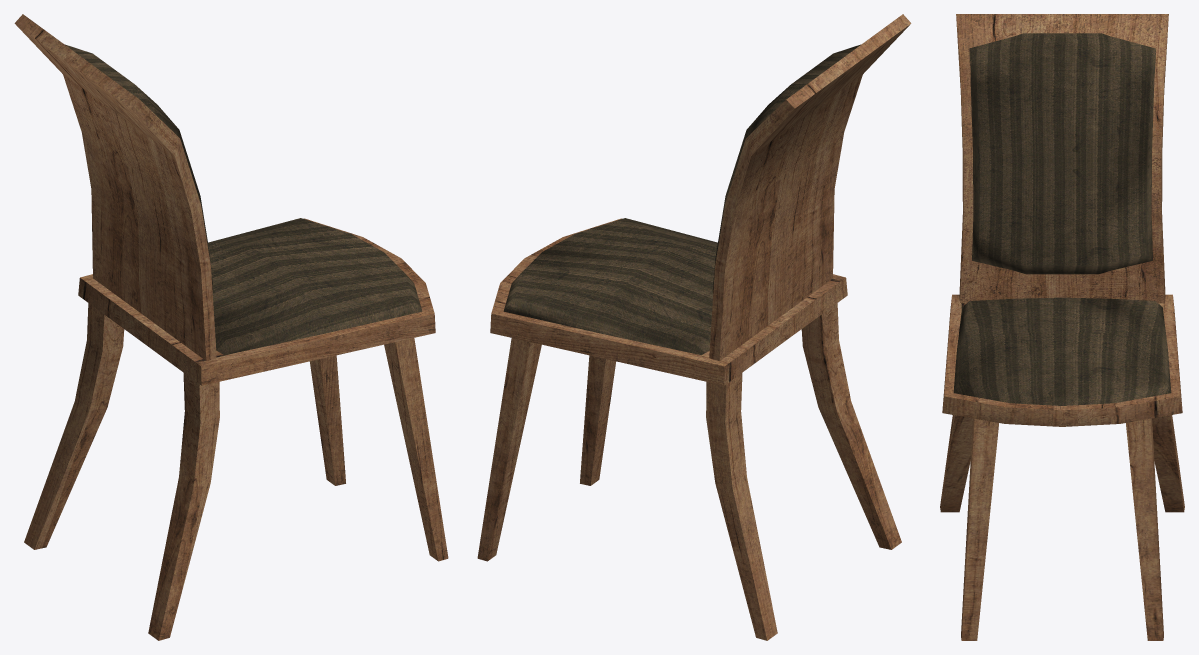
Rendered from Prop_Yz01.glb.
The picture shows the model from 3 angles, left to right: view 1: azimuth 30°, elevation 25°; view 2: azimuth 150°, elevation 25°; view 3: azimuth 270°, elevation 25°; orthographic projection. The views are drawn at different scales.
Parts seen in each view (by area): view 1: xiutz_yz_01; view 2: xiutz_yz_01; view 3: xiutz_yz_01.
Boxes of the visible parts, x1,y1,x2,y2 form: xiutz_yz_01: [14, 14, 448, 640]; xiutz_yz_01: [477, 14, 911, 640]; xiutz_yz_01: [940, 14, 1184, 640].
Size of the model in its own units: 1.22 by 1.9 by 0.8644.
Materials: 1 (1 with a texture image).
